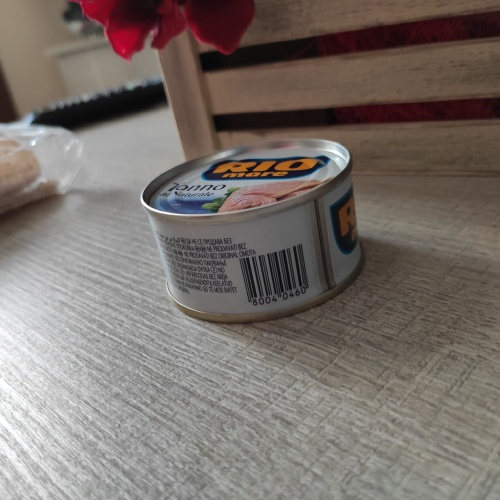tonno: (138, 135, 375, 328)
